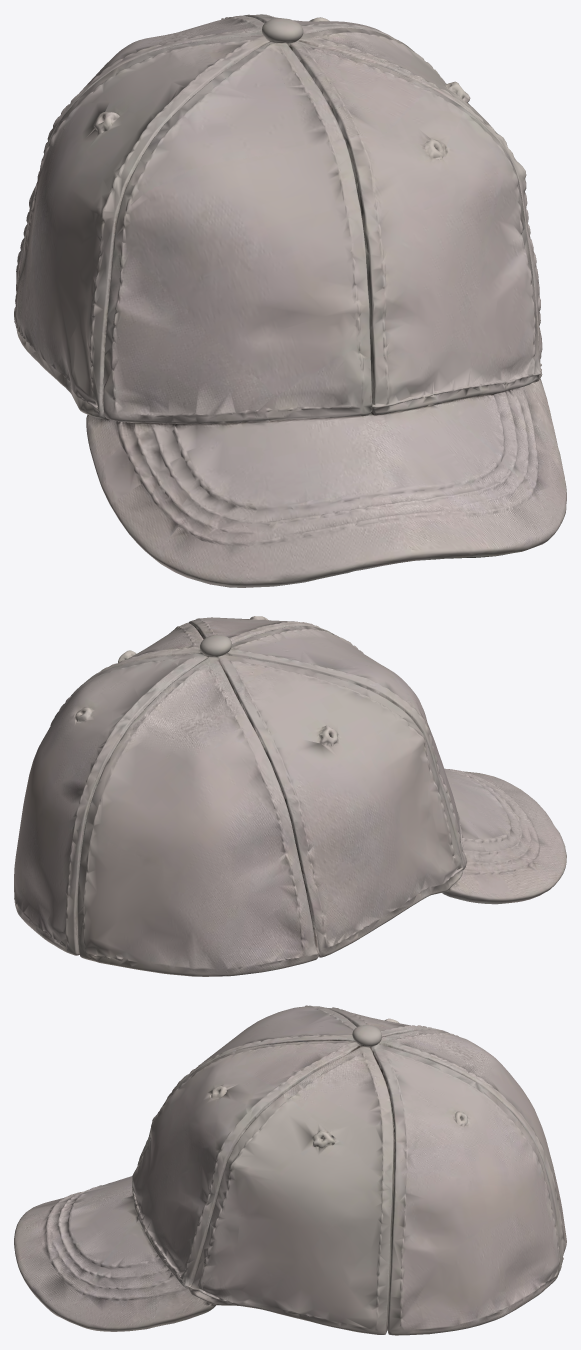
3 views of the same model, one above another, from view 1: azimuth 30°, elevation 25°; view 2: azimuth 150°, elevation 25°; view 3: azimuth 270°, elevation 25° (orthographic). The views are drawn at different scales.
Visible parts, largest first — view 1: tripo_node_115b1375-d23e-445b-98ab-00c1b2021d7f; view 2: tripo_node_115b1375-d23e-445b-98ab-00c1b2021d7f; view 3: tripo_node_115b1375-d23e-445b-98ab-00c1b2021d7f.
Boxes of the visible parts, <box> form: tripo_node_115b1375-d23e-445b-98ab-00c1b2021d7f: <box>14,14,566,587</box>; tripo_node_115b1375-d23e-445b-98ab-00c1b2021d7f: <box>14,616,566,976</box>; tripo_node_115b1375-d23e-445b-98ab-00c1b2021d7f: <box>14,1005,566,1335</box>.
Size of the model in its own units: 0.751 by 0.5573 by 1.03.
Materials: 1 (1 with a texture image).
